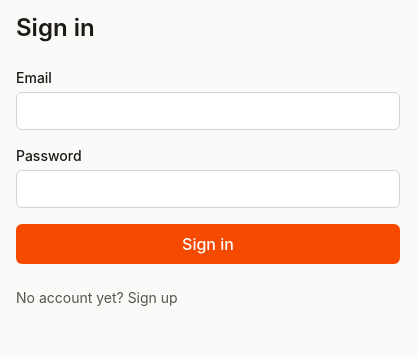
Test: LoginPage › shows the API message when the credentials are wrong
In the field labelled "Email": coordinates (208, 111) 16,92 -> 400,130, type "ana@example.com"
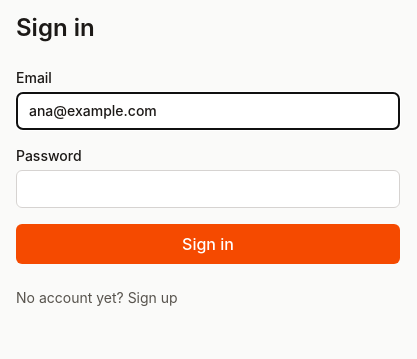
In the password field labelled "Password": coordinates (208, 189) 16,170 -> 400,208, type "mal"
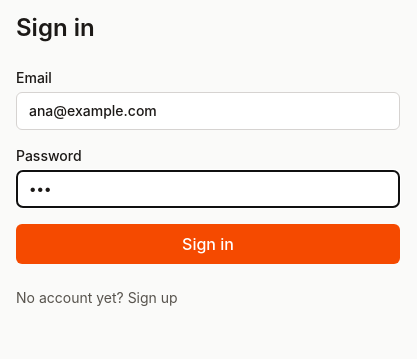
Click the button "Sign in": coordinates (208, 244) 16,224 -> 400,264
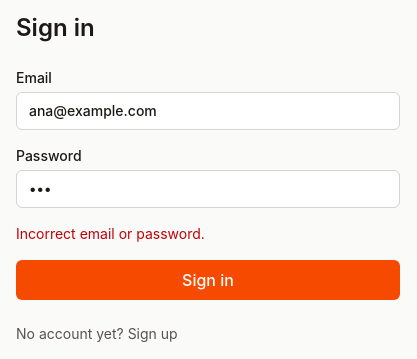
Now the message reads "Incorrect email or password.", box 16,225 -> 205,242
